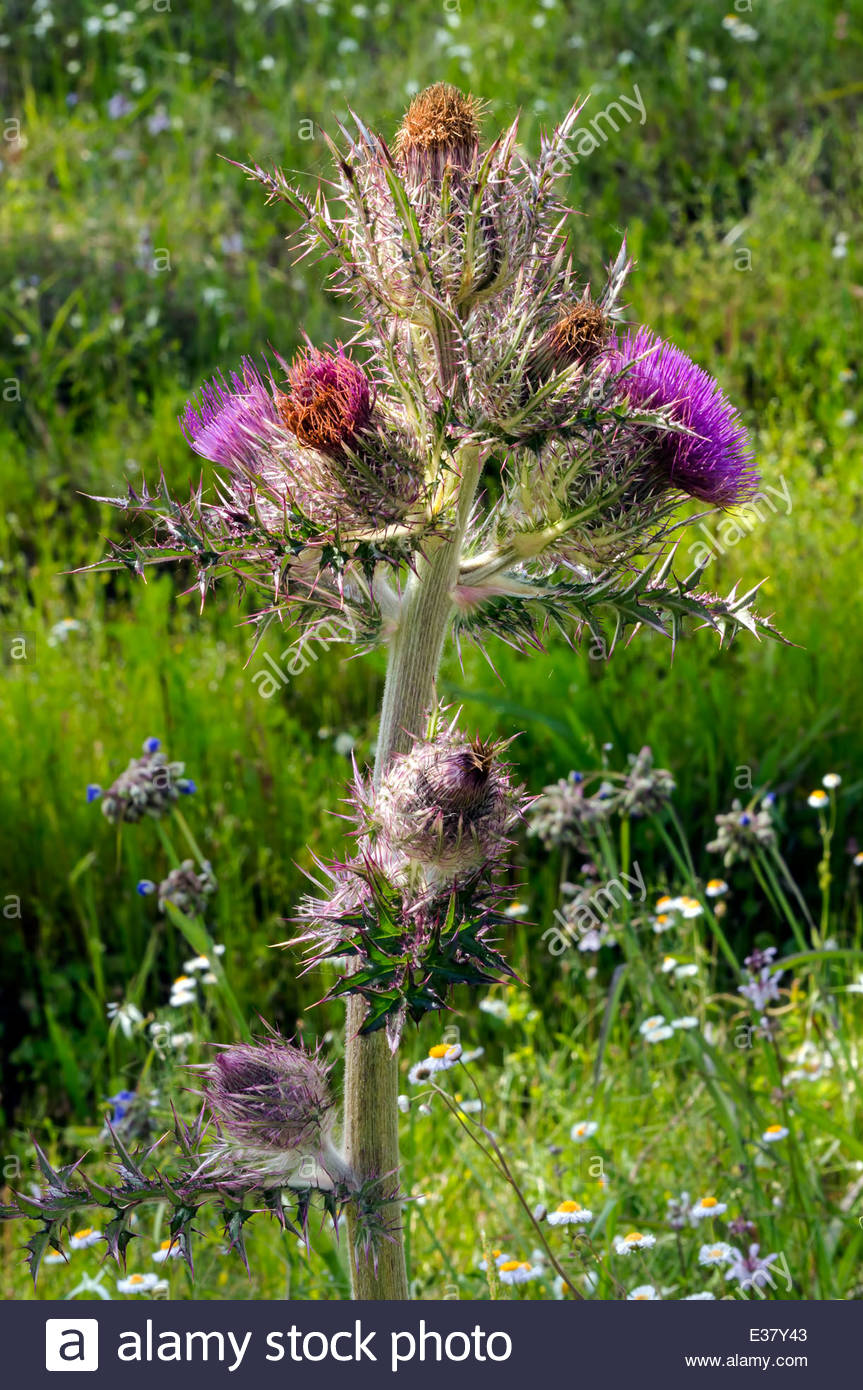thistle: (166, 373, 370, 577), (581, 335, 754, 565)
